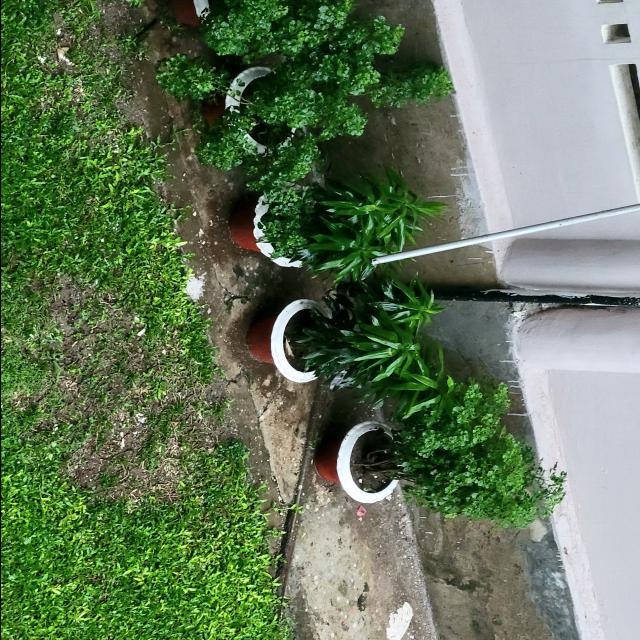Breeding Place: (302, 371, 564, 554), (178, 150, 472, 302), (168, 45, 444, 192), (224, 281, 476, 418), (127, 0, 383, 87)
